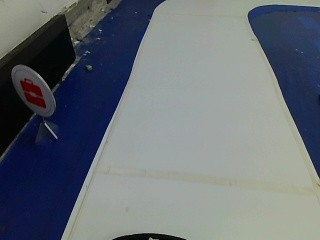company: (9, 63, 57, 118)
